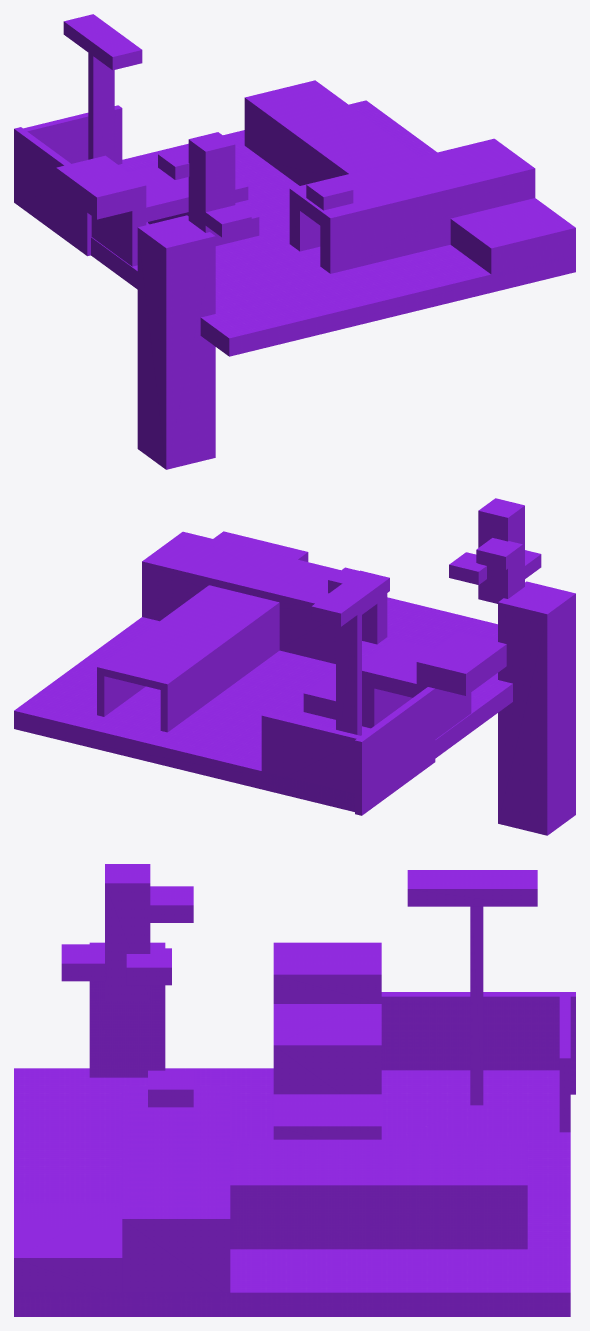
File: Godot_ExportTest.glb
3 renders of one model, top to bottom at view 1: azimuth 30°, elevation 25°; view 2: azimuth 150°, elevation 25°; view 3: azimuth 270°, elevation 25°, orthographic. The views are drawn at different scales.
Parts seen in each view (by area): view 1: CSGBakedMeshInstance3D2, CSGBakedMeshInstance3D, CSGBakedMeshInstance3D10, CSGBakedMeshInstance3D6, CSGBakedMeshInstance3D5, CSGBakedMeshInstance3D4, CSGBakedMeshInstance3D7, CSGBakedMeshInstance3D9, CSGBakedMeshInstance3D11, CSGBakedMeshInstance3D17, CSGBakedMeshInstance3D3, CSGBakedMeshInstance3D16 (+4 smaller); view 2: CSGBakedMeshInstance3D2, CSGBakedMeshInstance3D10, CSGBakedMeshInstance3D6, CSGBakedMeshInstance3D, CSGBakedMeshInstance3D3, CSGBakedMeshInstance3D4, CSGBakedMeshInstance3D7, CSGBakedMeshInstance3D9, CSGBakedMeshInstance3D11, CSGBakedMeshInstance3D17, CSGBakedMeshInstance3D16, CSGBakedMeshInstance3D8 (+3 smaller); view 3: CSGBakedMeshInstance3D2, CSGBakedMeshInstance3D6, CSGBakedMeshInstance3D, CSGBakedMeshInstance3D4, CSGBakedMeshInstance3D5, CSGBakedMeshInstance3D7, CSGBakedMeshInstance3D9, CSGBakedMeshInstance3D10, CSGBakedMeshInstance3D11, CSGBakedMeshInstance3D8, CSGBakedMeshInstance3D16, CSGBakedMeshInstance3D17 (+5 smaller).
Part boxes in pixels (bbox=[...]): CSGBakedMeshInstance3D2: bbox=[91, 100, 575, 356]; CSGBakedMeshInstance3D: bbox=[289, 138, 535, 273]; CSGBakedMeshInstance3D10: bbox=[137, 215, 215, 469]; CSGBakedMeshInstance3D6: bbox=[244, 80, 419, 185]; CSGBakedMeshInstance3D5: bbox=[450, 198, 575, 275]; CSGBakedMeshInstance3D4: bbox=[14, 127, 91, 256]; CSGBakedMeshInstance3D7: bbox=[91, 165, 188, 266]; CSGBakedMeshInstance3D9: bbox=[56, 155, 146, 219]; CSGBakedMeshInstance3D11: bbox=[188, 132, 235, 237]; CSGBakedMeshInstance3D17: bbox=[88, 53, 114, 161]; CSGBakedMeshInstance3D3: bbox=[20, 105, 122, 164]; CSGBakedMeshInstance3D16: bbox=[63, 14, 142, 70]; CSGBakedMeshInstance3D2: bbox=[14, 597, 512, 811]; CSGBakedMeshInstance3D10: bbox=[498, 581, 575, 835]; CSGBakedMeshInstance3D6: bbox=[97, 585, 279, 732]; CSGBakedMeshInstance3D: bbox=[142, 531, 387, 663]; CSGBakedMeshInstance3D3: bbox=[261, 712, 363, 811]; CSGBakedMeshInstance3D4: bbox=[355, 687, 435, 815]; CSGBakedMeshInstance3D7: bbox=[362, 639, 471, 739]; CSGBakedMeshInstance3D9: bbox=[416, 632, 506, 695]; CSGBakedMeshInstance3D11: bbox=[478, 498, 524, 603]; CSGBakedMeshInstance3D17: bbox=[336, 589, 361, 735]; CSGBakedMeshInstance3D16: bbox=[311, 570, 389, 626]; CSGBakedMeshInstance3D8: bbox=[303, 670, 335, 719]; CSGBakedMeshInstance3D2: bbox=[14, 1068, 570, 1316]; CSGBakedMeshInstance3D6: bbox=[230, 1139, 527, 1249]; CSGBakedMeshInstance3D: bbox=[122, 1086, 230, 1297]; CSGBakedMeshInstance3D4: bbox=[381, 992, 575, 1094]; CSGBakedMeshInstance3D5: bbox=[14, 1203, 122, 1296]; CSGBakedMeshInstance3D7: bbox=[273, 1004, 381, 1094]; CSGBakedMeshInstance3D9: bbox=[273, 942, 381, 1003]; CSGBakedMeshInstance3D10: bbox=[89, 942, 165, 1077]; CSGBakedMeshInstance3D11: bbox=[105, 864, 150, 1000]; CSGBakedMeshInstance3D8: bbox=[273, 1094, 381, 1139]; CSGBakedMeshInstance3D16: bbox=[407, 870, 537, 906]; CSGBakedMeshInstance3D17: bbox=[470, 906, 483, 1105].
Bounding box in the file's own units: 54 × 41.8 × 51.95.
Materials: 1 (1 with a texture image).
